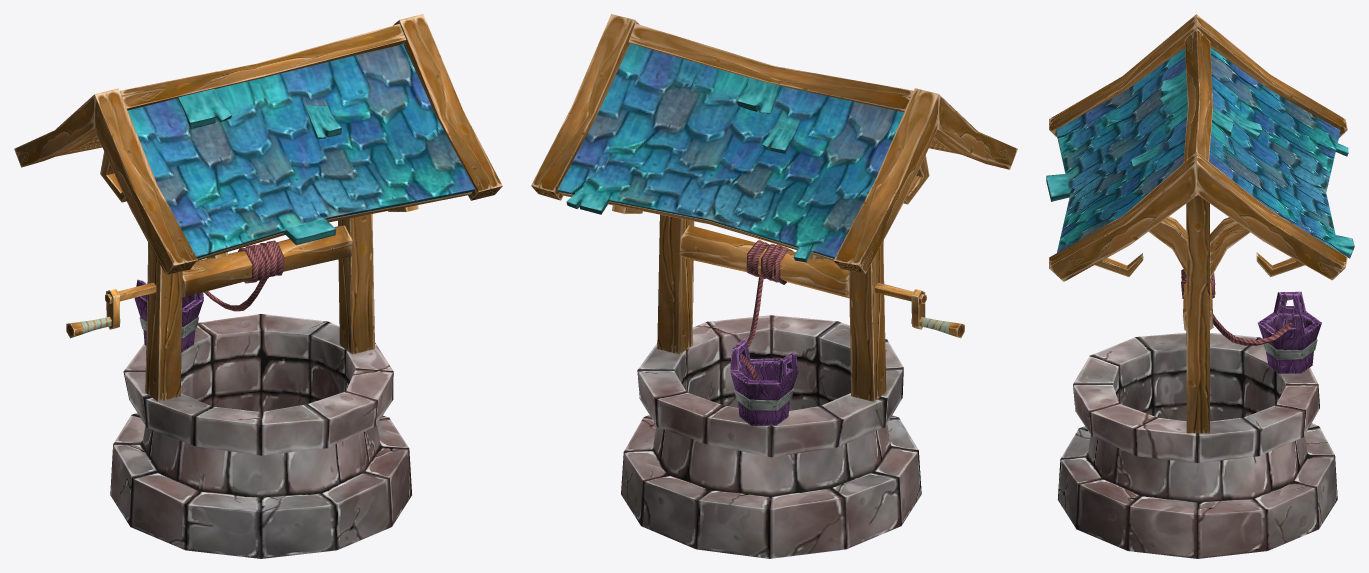
The model's file is well.fbx.
3 views of the same model, side by side, from view 1: azimuth 30°, elevation 25°; view 2: azimuth 150°, elevation 25°; view 3: azimuth 270°, elevation 25° (orthographic). The views are drawn at different scales.
Visible parts, largest first — view 1: well; view 2: well; view 3: well.
Boxes of the visible parts, x1,y1,x2,y2 form: well: [14, 14, 502, 558]; well: [531, 14, 1017, 558]; well: [1046, 14, 1354, 558].
Size of the model in its own units: 64.53 by 77.45 by 52.82.
